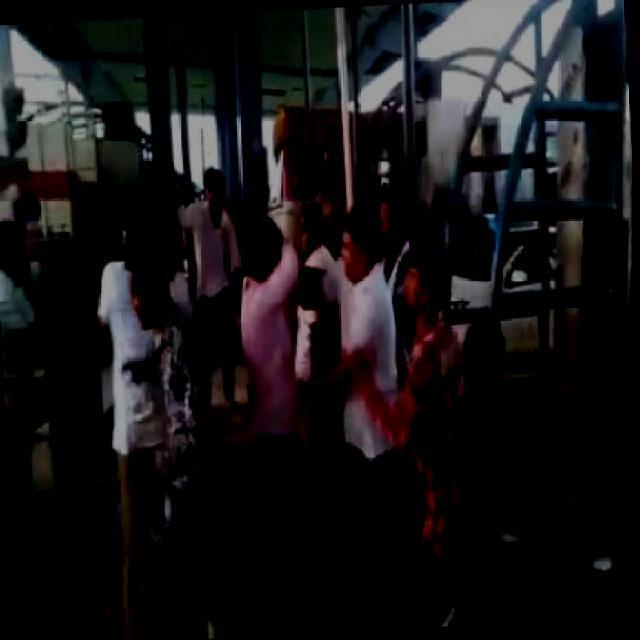fight: (233, 200, 410, 542)
